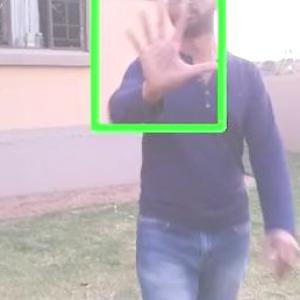follow_hand: (121, 0, 226, 106)
